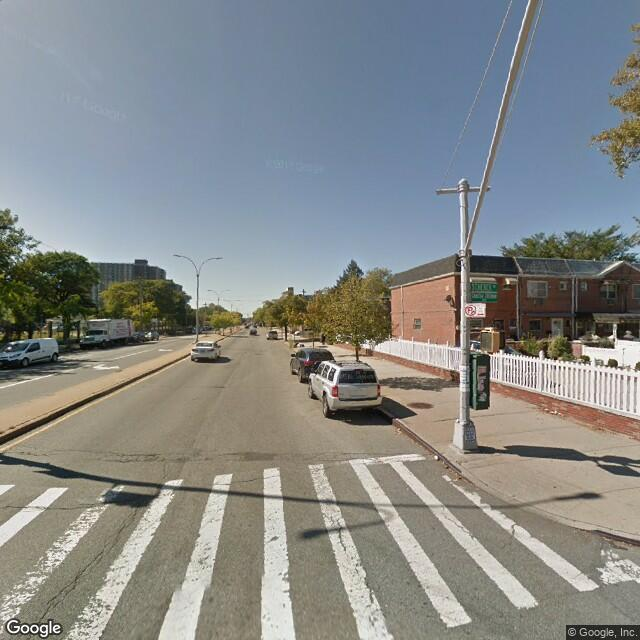litter: (432, 454, 440, 463)
